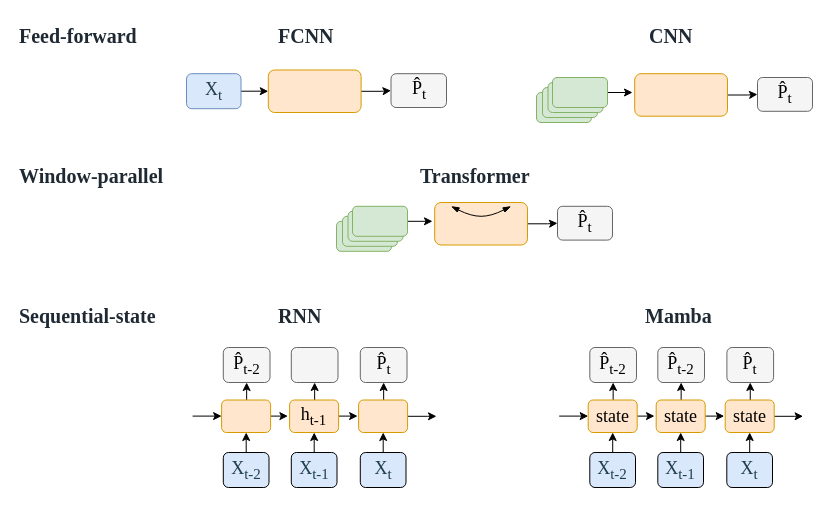
Some shapes in this 830 by 505 pixel diagram are drawn without their labels. Here are the shapes that lost their labels. From the top down, the centre of each, then its label:
the point at 314,90: Dense
the point at 681,94: Conv
the point at 481,223: Attention
the point at 314,364: P̂ t-1
the point at 246,415: h t-2
the point at 383,415: h t
